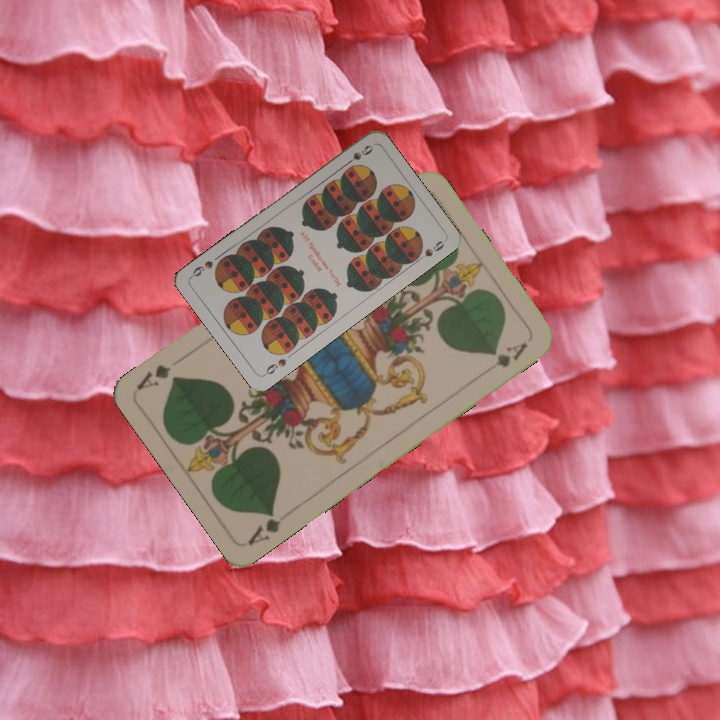GA: (244, 506, 284, 548)
S9: (340, 141, 376, 169), (260, 354, 289, 378)
